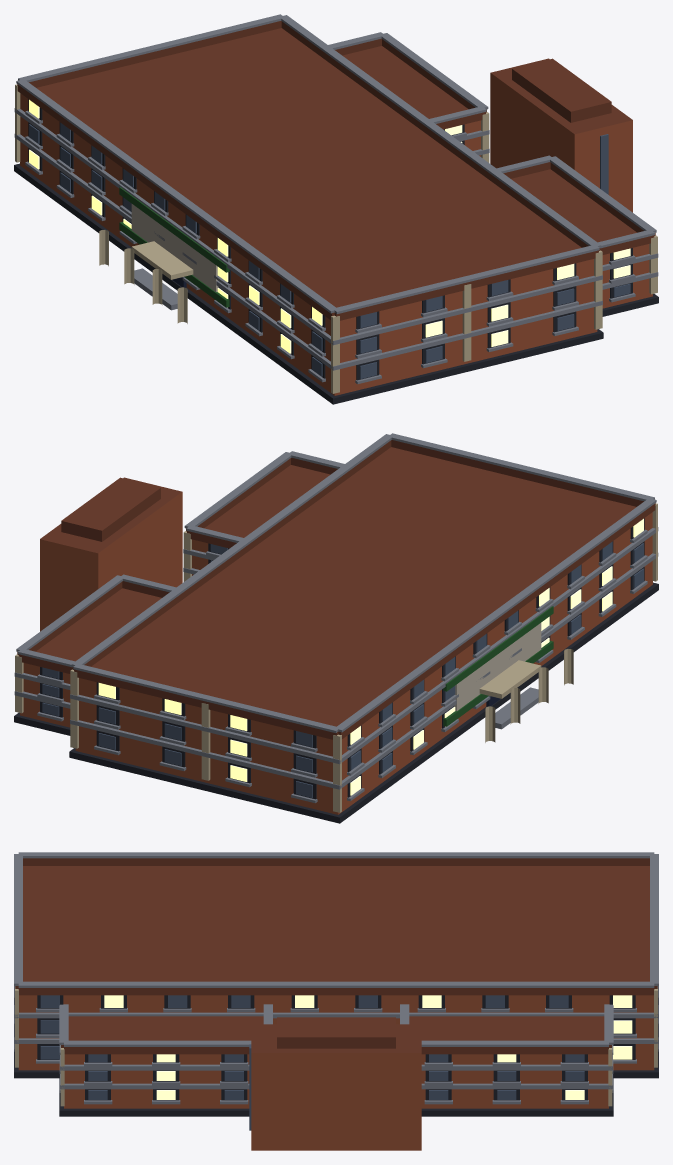
The model's file is admin-high.glb.
3 views of the same model, one above another, from view 1: azimuth 30°, elevation 25°; view 2: azimuth 150°, elevation 25°; view 3: azimuth 270°, elevation 25° (orthographic).
Bounding box in the file's own units: 92.9 × 21.2 × 114.
